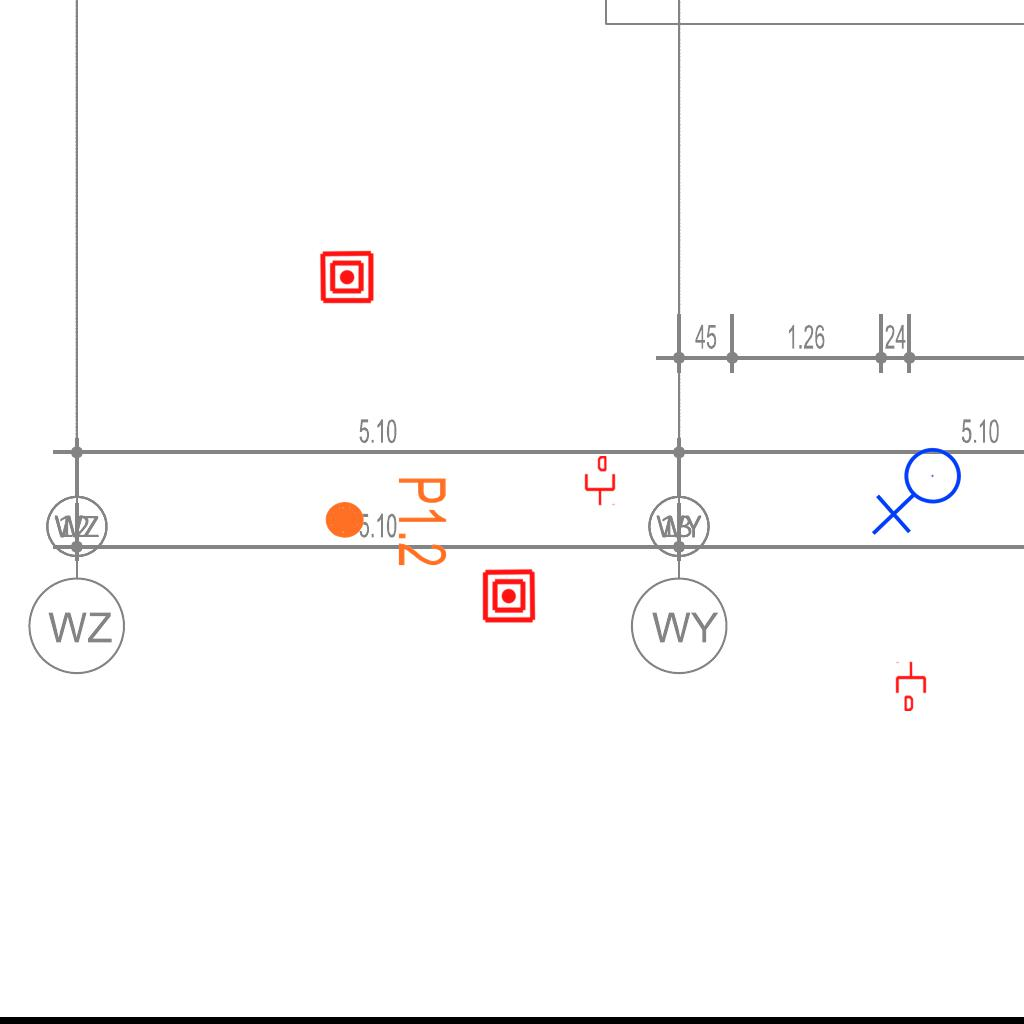Datenanschluss_einfach: (894, 661, 928, 711), (583, 456, 617, 506)
Downlight_LED_Einbauleuchten_Flur: (322, 475, 450, 568)
Elektroanschluss_allgemein_230V_Geraeteanschlussdose_230V: (871, 446, 970, 540)
NAM-Nichtautomatischer_Melder: (319, 249, 375, 305), (481, 568, 537, 624)
